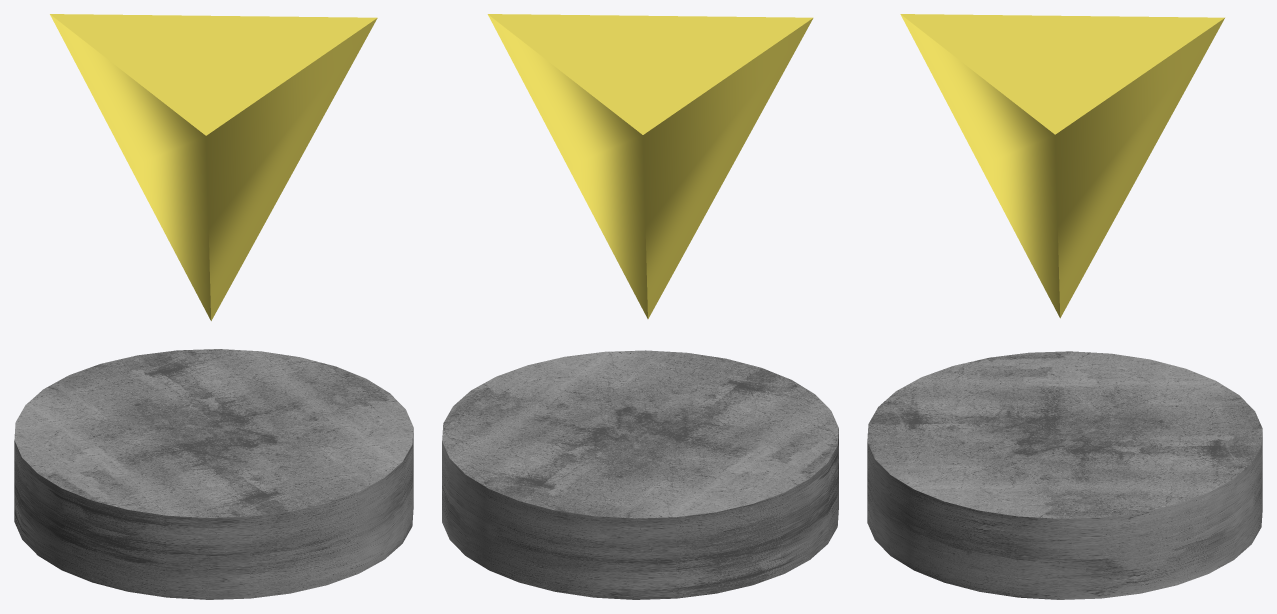
The model's file is pyrYellow.glb.
3 views of the same model, side by side, from view 1: azimuth 30°, elevation 25°; view 2: azimuth 150°, elevation 25°; view 3: azimuth 270°, elevation 25° (orthographic).
Parts seen in each view (by area): view 1: 010_Cylinder_-_baked_5, 009_Cone_1; view 2: 010_Cylinder_-_baked_5, 009_Cone_1; view 3: 010_Cylinder_-_baked_5, 009_Cone_1.
Part boxes in pixels (x1=…): 010_Cylinder_-_baked_5: x1=14, y1=349, x2=413, y2=599; 009_Cone_1: x1=50, y1=14, x2=377, y2=320; 010_Cylinder_-_baked_5: x1=442, y1=350, x2=838, y2=599; 009_Cone_1: x1=487, y1=14, x2=813, y2=318; 010_Cylinder_-_baked_5: x1=867, y1=351, x2=1262, y2=599; 009_Cone_1: x1=900, y1=14, x2=1224, y2=318.
Bounding box in the file's own units: 17.34 × 22.11 × 17.29.
2 materials, 1 textured.
